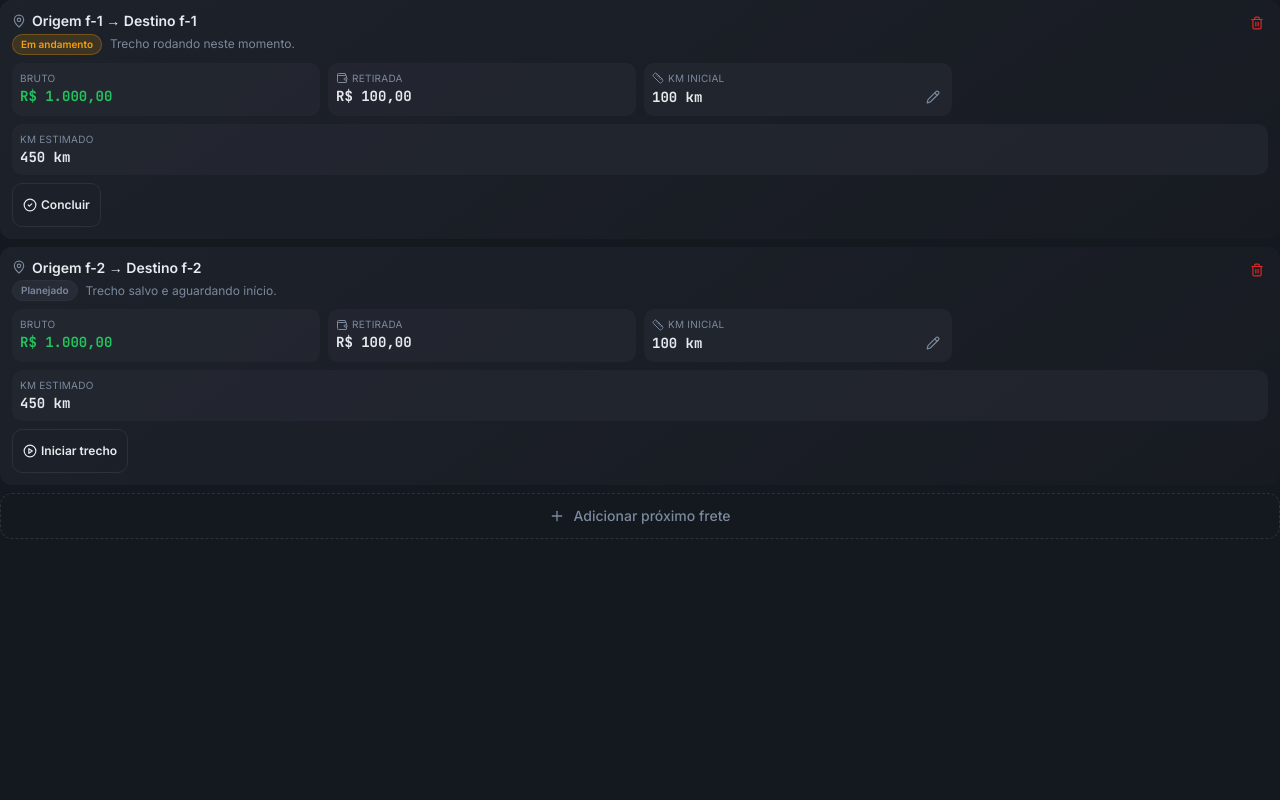
FreightTab › abre modal de hand-off quando já existe frete em andamento
What coordinates should you click on to do the following:
click the button "Iniciar trecho"
I would click on:
 (70, 451)
Its box is [12,429,128,473].
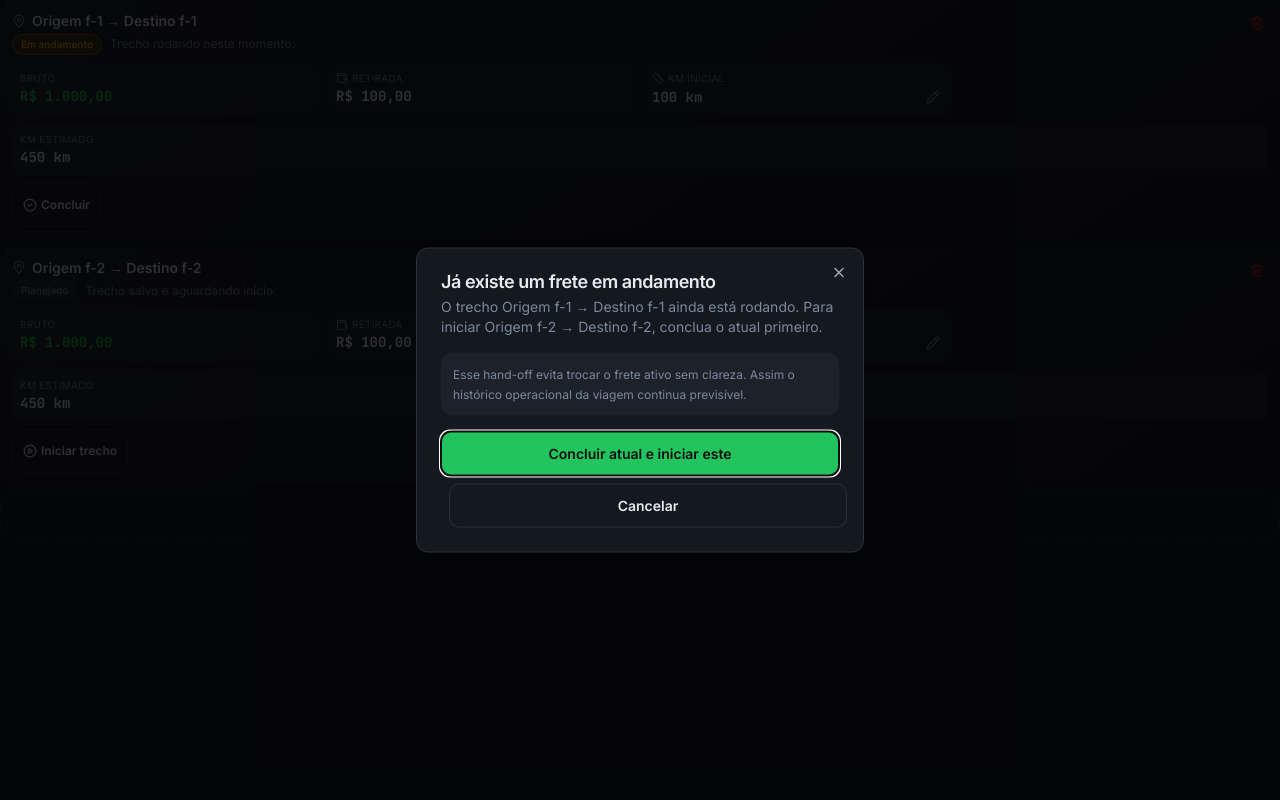
Expected: the heading "Já existe um frete em andamento" is shown, [441,270,716,292]
Expected: the button "Concluir atual e iniciar este" is shown, [441,432,839,476]
